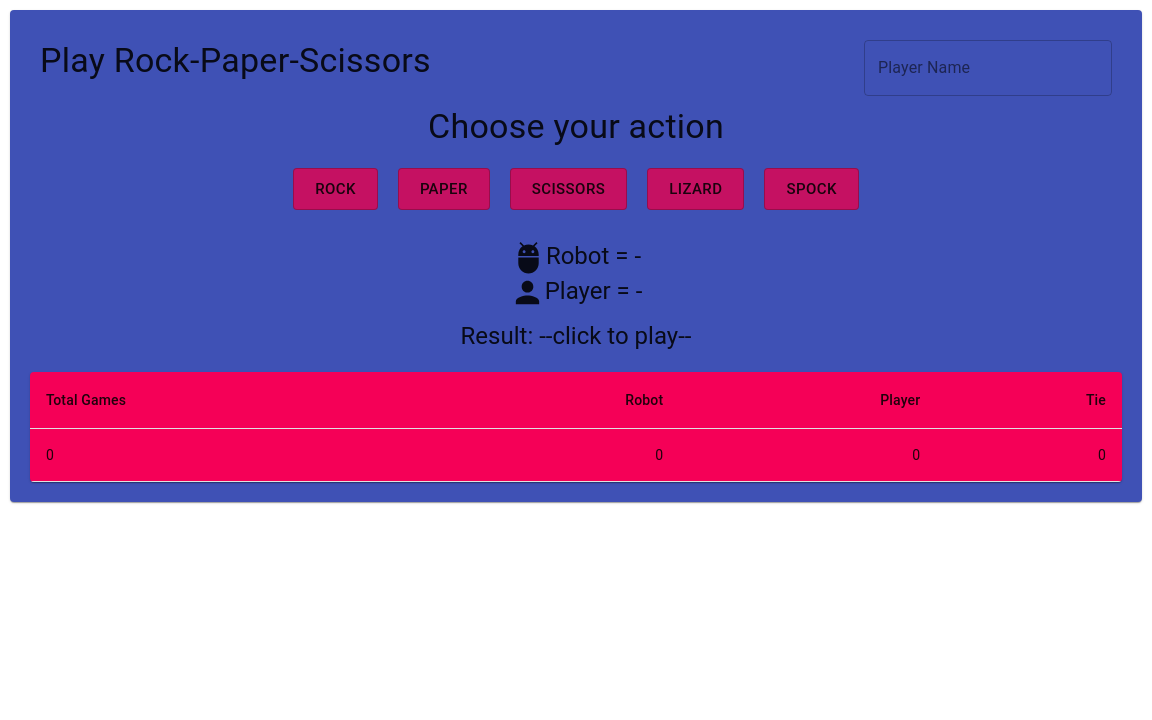
The paper button › should be clickable and display PAPER as player's choice
Click the button with test id "PAPERButton".
click(444, 189)  # box [398,168,490,210]
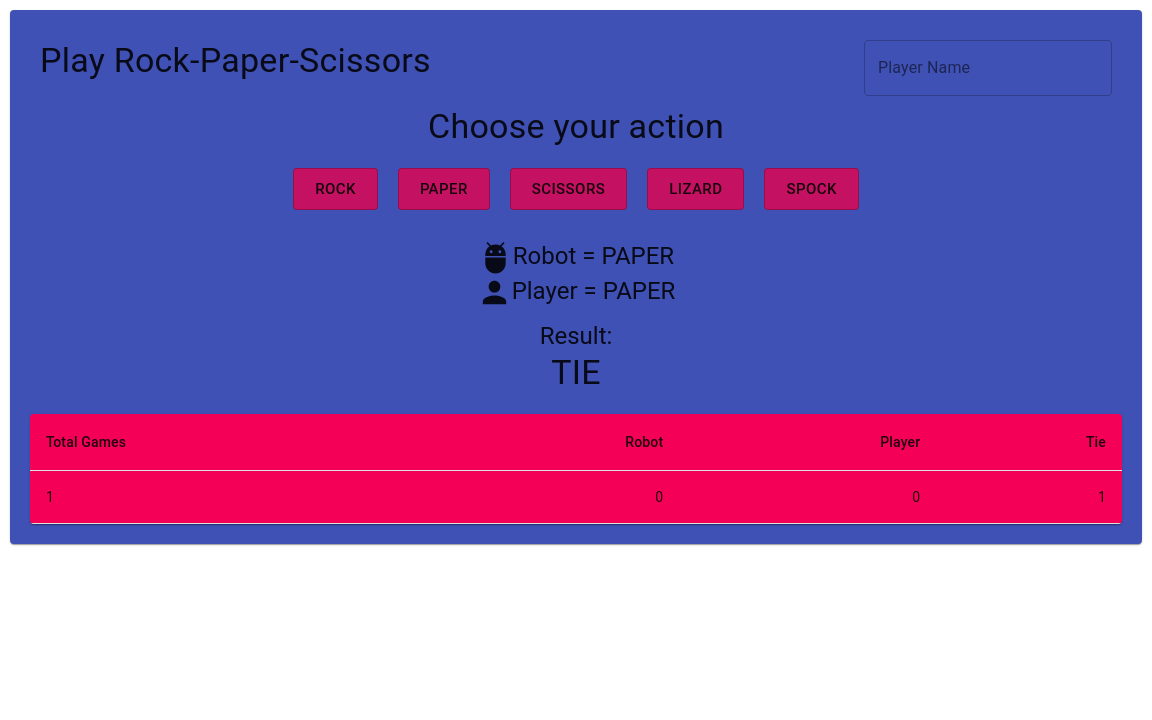
Result: the heading "Player = PAPER" is shown at [512,275,675,310]
